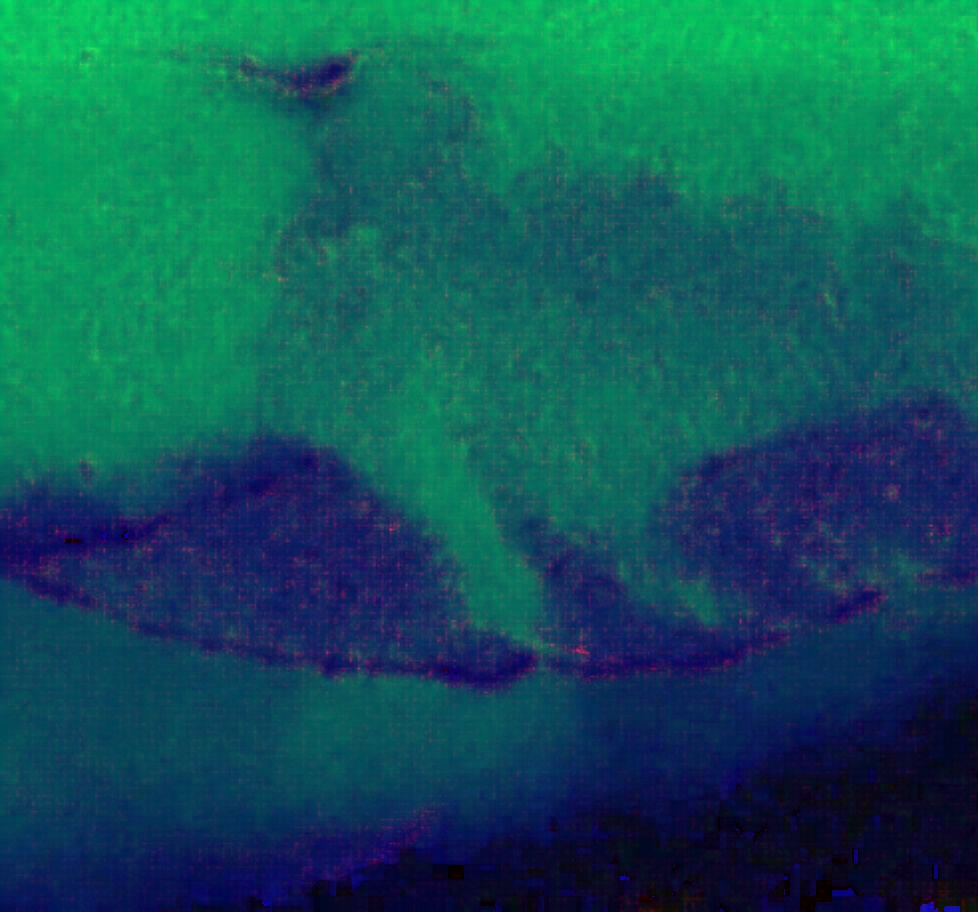rip_current: (255, 81, 659, 658)
